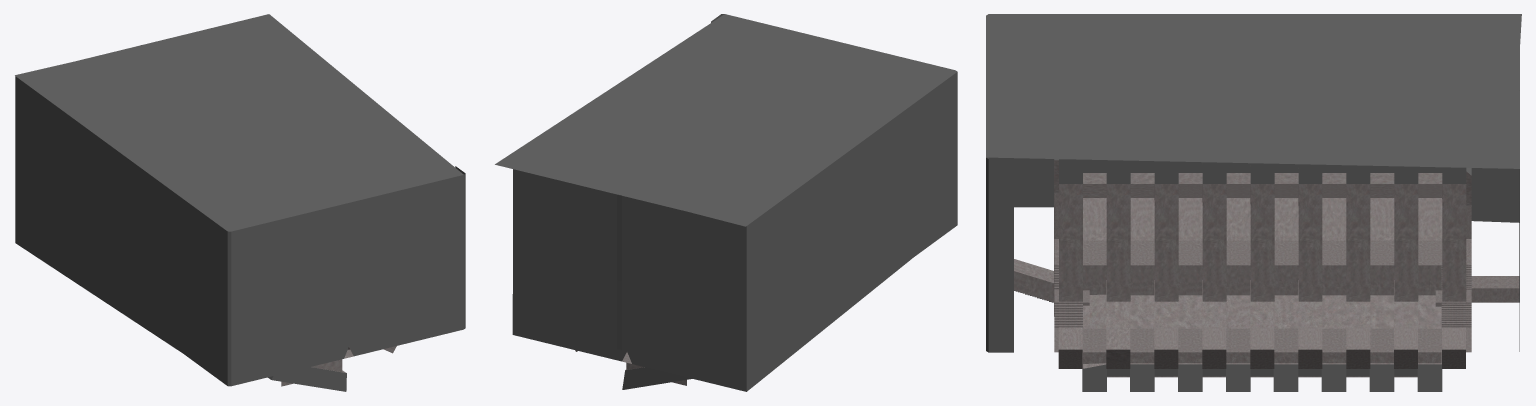
The model's file is SurvStageFinalCope.fbx.
3 views of the same model, side by side, from view 1: azimuth 30°, elevation 25°; view 2: azimuth 150°, elevation 25°; view 3: azimuth 270°, elevation 25° (orthographic). The views are drawn at different scales.
Parts seen in each view (by area): view 1: Stage_Surv.001; view 2: Stage_Surv.001; view 3: Stage_Surv.001, Stage_Surv.
Boxes of the visible parts, box(x1,y1,x2,y2) form: Stage_Surv.001: box(15, 14, 465, 391); Stage_Surv.001: box(495, 14, 957, 391); Stage_Surv.001: box(986, 14, 1521, 391); Stage_Surv: box(1054, 239, 1471, 352).
Size of the model in its own units: 61338 by 52211 by 89645.
